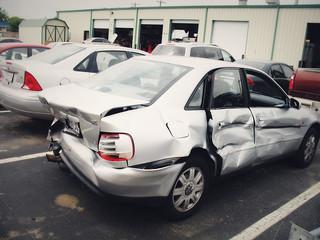boot-dent: (37, 88, 128, 143)
doorouter-dent: (205, 113, 256, 170), (255, 104, 299, 165)
quaterpanel-dent: (115, 109, 212, 170)
rear-bumper-dent: (45, 152, 165, 194)
